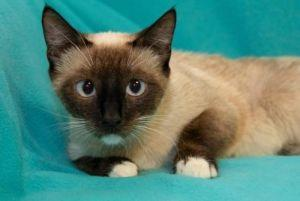siamese: (35, 1, 183, 147)
